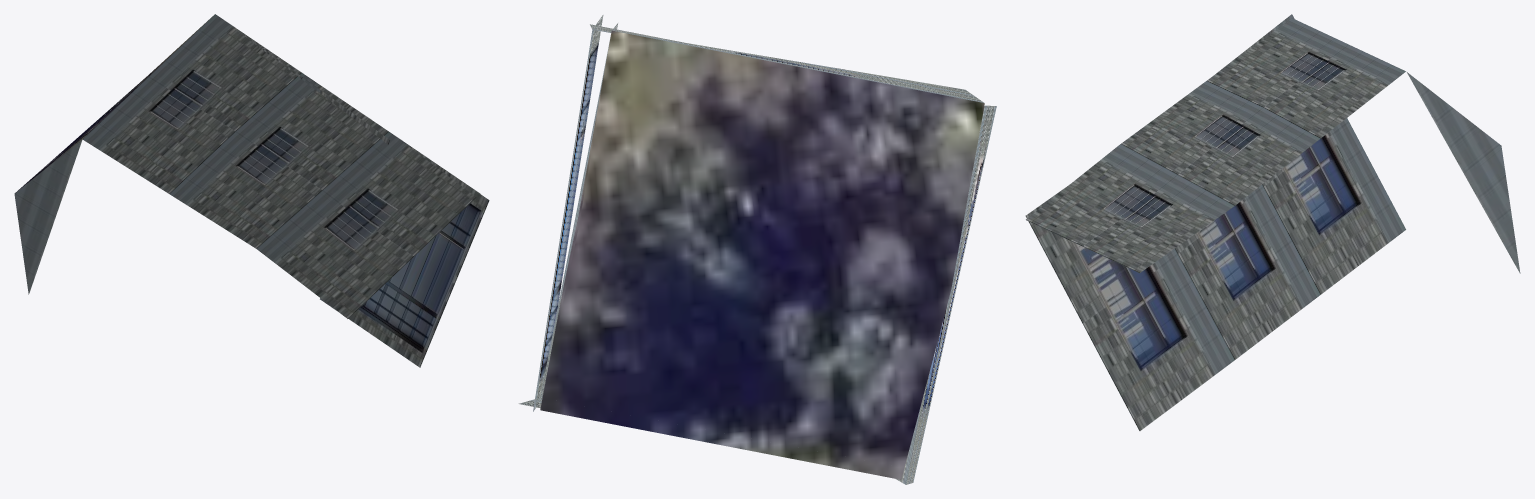
Rendered from tile_LOD4_r11_c15.glb.
3 renders of one model, left to right at view 1: azimuth 30°, elevation 25°; view 2: azimuth 150°, elevation 25°; view 3: azimuth 270°, elevation 25°, orthographic. The views are drawn at different scales.
Bounding box in the file's own units: 11.25 × 11.25 × 13.
5 materials, 5 textured.
